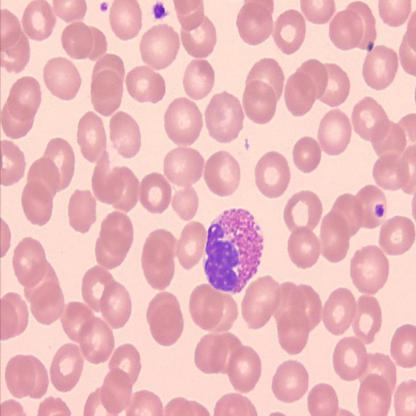Eosinophil: (204, 206, 264, 296)
